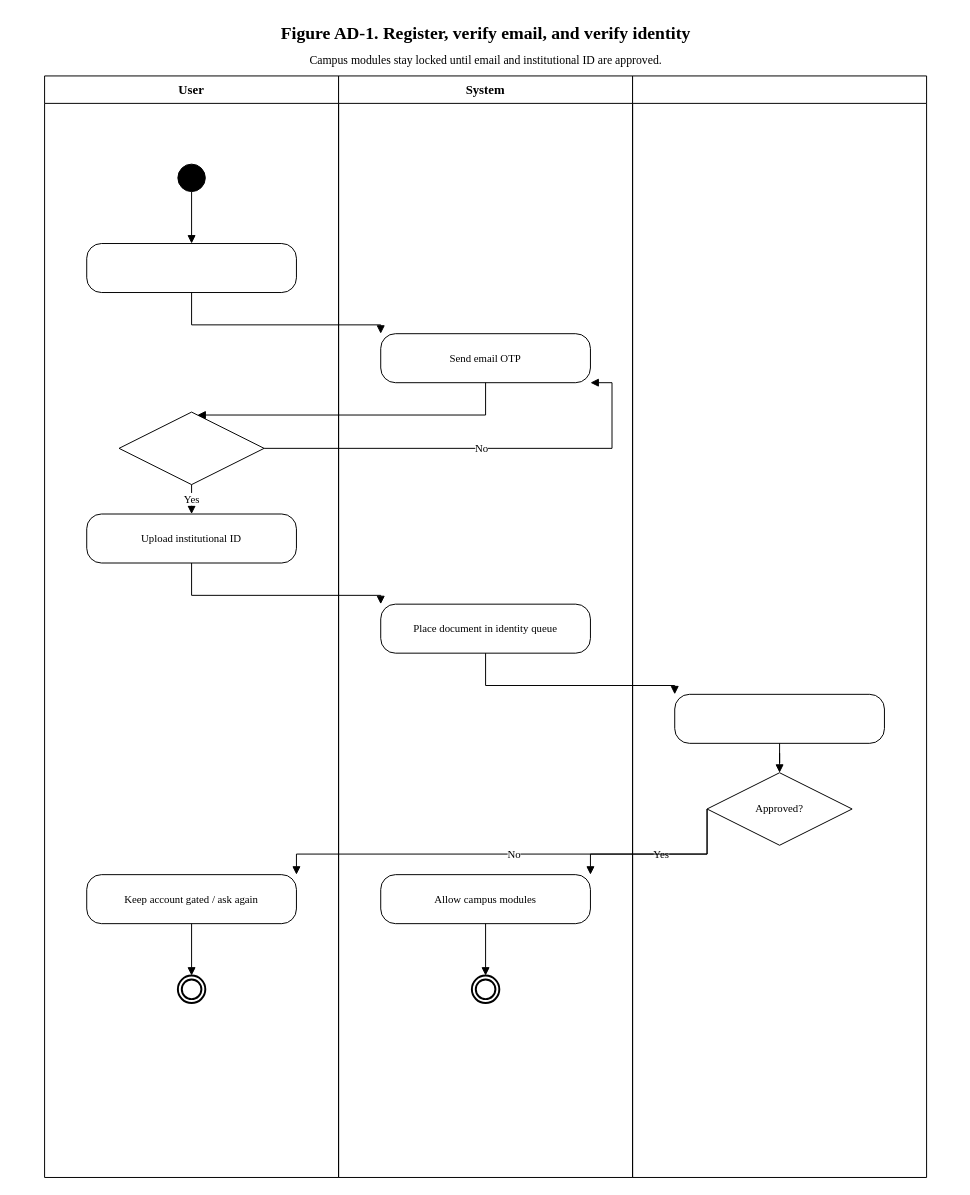
The diagram is 970 pixels wide and 1195 high, and some of its shapes have lost their labels. Each missing label, with the box of its shape:
Email verified?: (118, 411, 264, 485)
Register or sign in: (86, 243, 296, 293)
Review identity document: (674, 693, 884, 743)
System Admin: (632, 75, 927, 1177)
